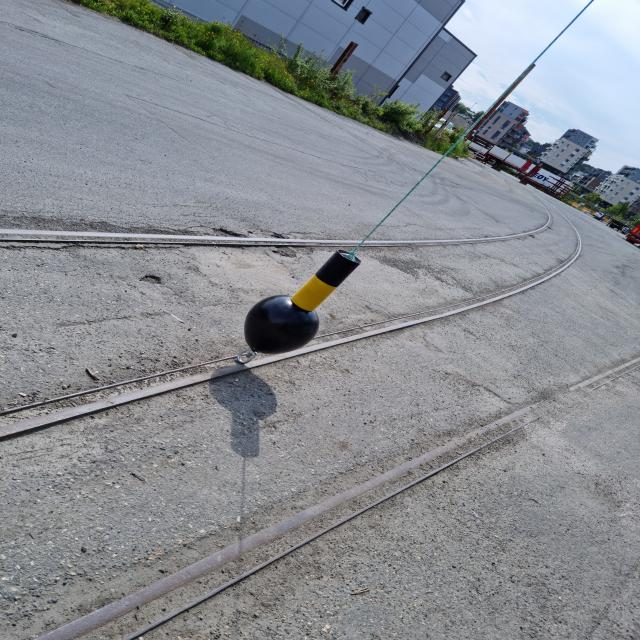east: (242, 249, 362, 356)
